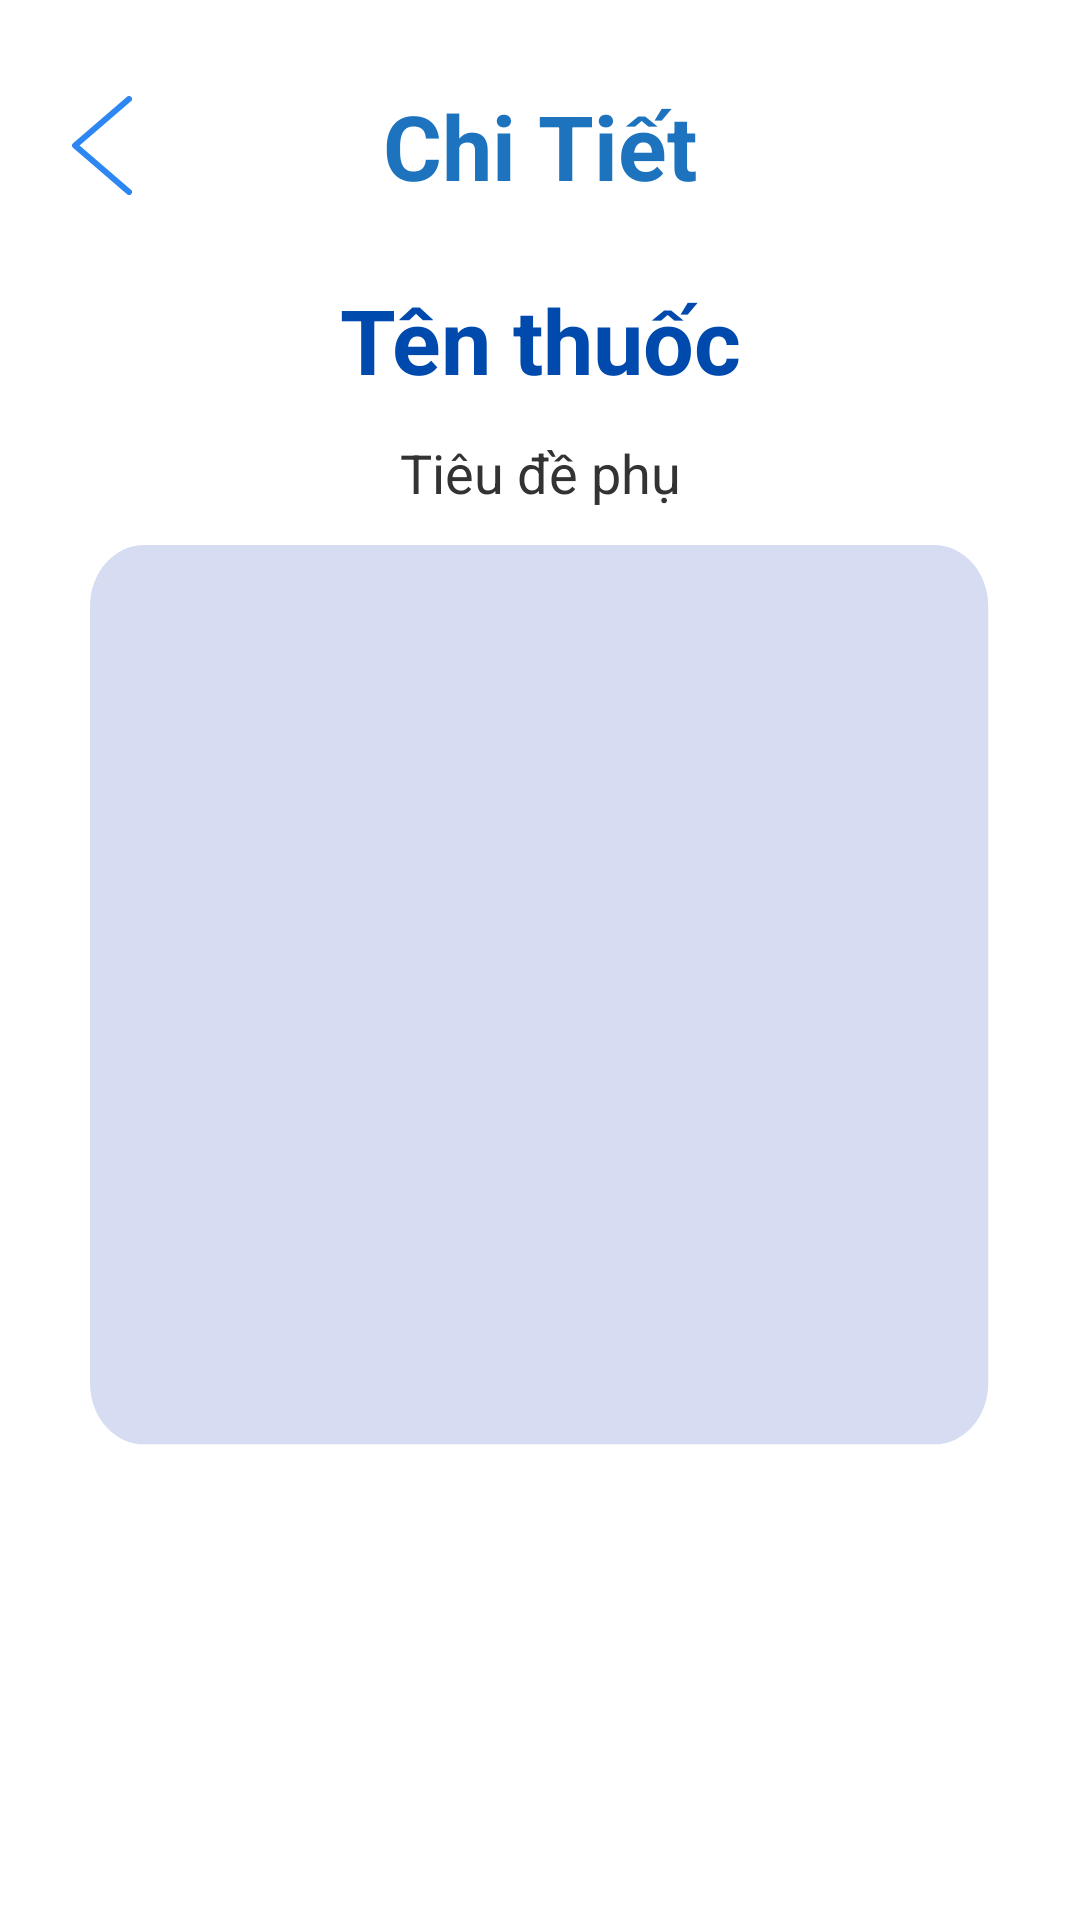

Icons on this 1080x1920 Android screen, each with its box as (x1, y1, x2, y2):
Back: (72, 96, 132, 195)
